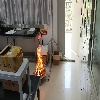fire: (35, 43, 44, 76), (38, 35, 41, 41)
